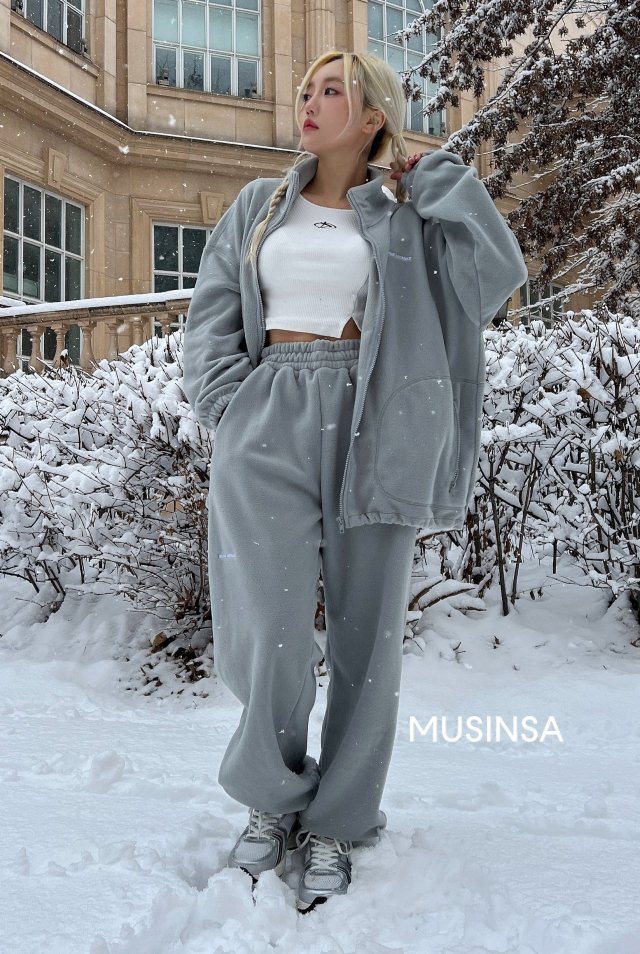Outer: (168, 150, 524, 532)
Shoes: (220, 799, 361, 918)
Training pants: (200, 347, 410, 841)
